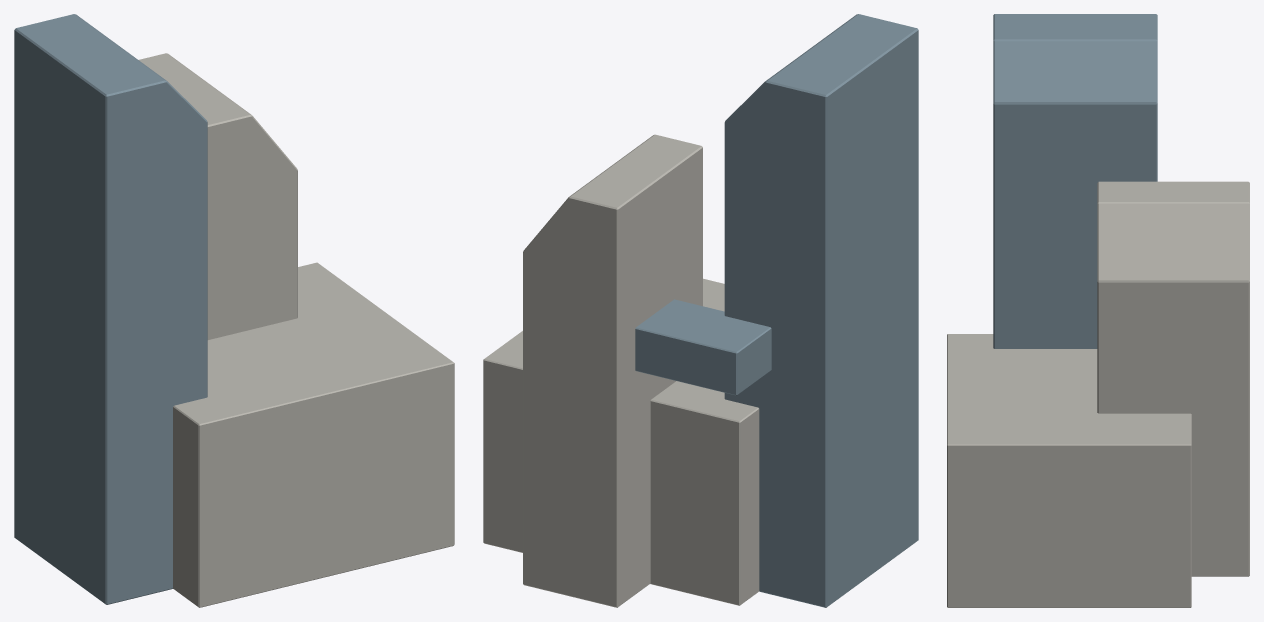
Rendered from CityV7_SkylineMid.fbx.
3 views of the same model, side by side, from view 1: azimuth 30°, elevation 25°; view 2: azimuth 150°, elevation 25°; view 3: azimuth 270°, elevation 25° (orthographic). The views are drawn at different scales.
Parts seen in each view (by area): view 1: CityV7_SkylineMid__CityV7_BlueStone, CityV7_SkylineMid__CityV7_Mineral; view 2: CityV7_SkylineMid__CityV7_BlueStone, CityV7_SkylineMid__CityV7_Mineral; view 3: CityV7_SkylineMid__CityV7_Mineral, CityV7_SkylineMid__CityV7_BlueStone.
Boxes of the visible parts, x1,y1,x2,y2 form: CityV7_SkylineMid__CityV7_BlueStone: (14,14,207,604); CityV7_SkylineMid__CityV7_Mineral: (139,53,454,607); CityV7_SkylineMid__CityV7_BlueStone: (635,14,918,607); CityV7_SkylineMid__CityV7_Mineral: (483,134,759,607); CityV7_SkylineMid__CityV7_Mineral: (947,181,1249,607); CityV7_SkylineMid__CityV7_BlueStone: (993,14,1157,348).
Bounding box in the file's own units: 13.25 × 20 × 12.08.
